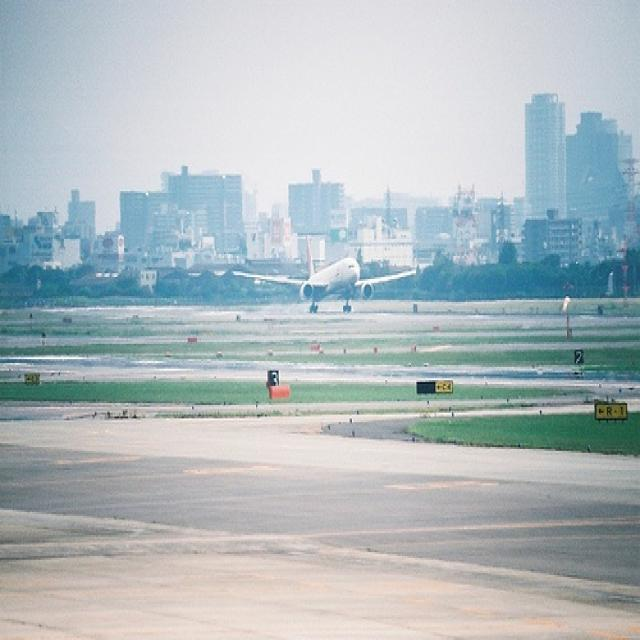aeroplane: (236, 237, 421, 317)
